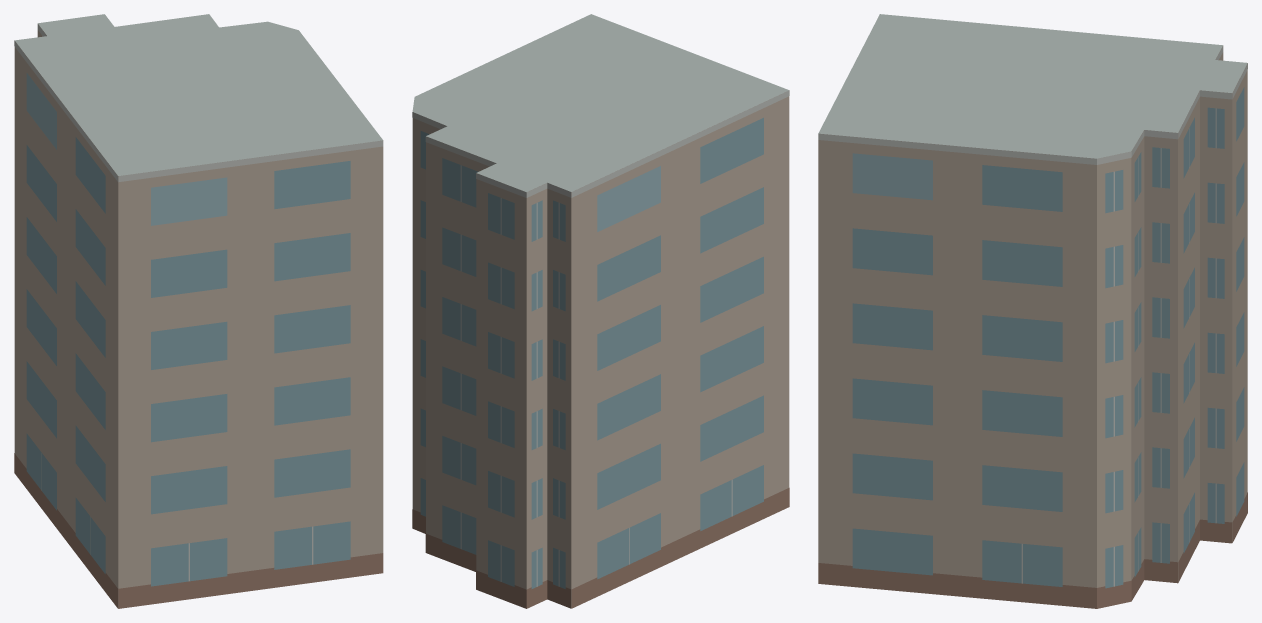
File: survey-upis-32529236.glb
3 views of the same model, side by side, from view 1: azimuth 30°, elevation 25°; view 2: azimuth 150°, elevation 25°; view 3: azimuth 270°, elevation 25° (orthographic). The views are drawn at different scales.
Visible parts, largest first — view 1: survey-upis-32529236.tmp; view 2: survey-upis-32529236.tmp; view 3: survey-upis-32529236.tmp.
Boxes of the visible parts, <box> form: survey-upis-32529236.tmp: <box>14,14,383,608</box>; survey-upis-32529236.tmp: <box>412,14,789,608</box>; survey-upis-32529236.tmp: <box>818,14,1247,608</box>.
Size of the model in its own units: 11.93 by 17.3 by 14.97.
